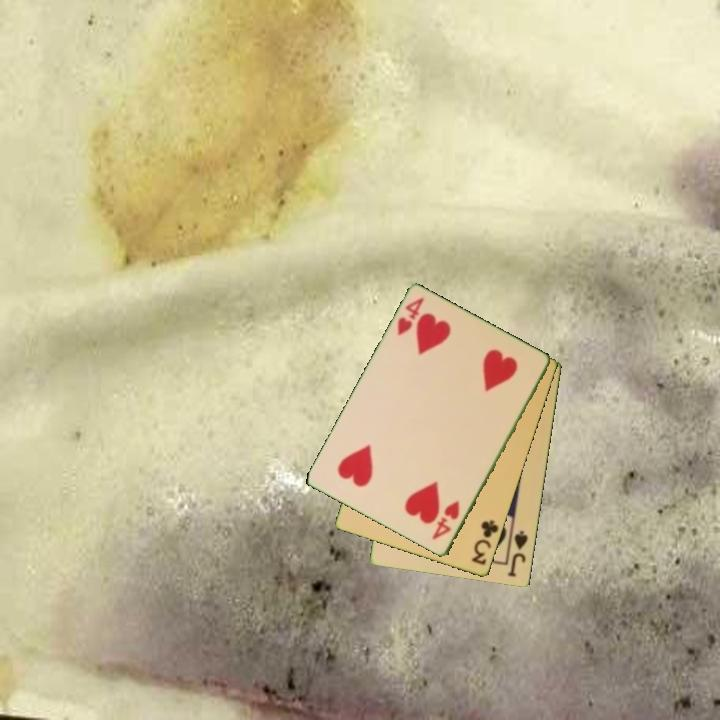3c: (468, 517, 502, 568)
4h: (429, 497, 463, 543), (394, 294, 427, 339)
Js: (505, 527, 531, 580)
